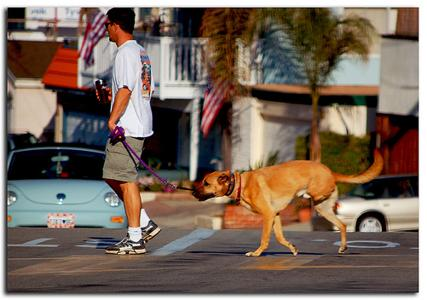person: (95, 7, 162, 257)
